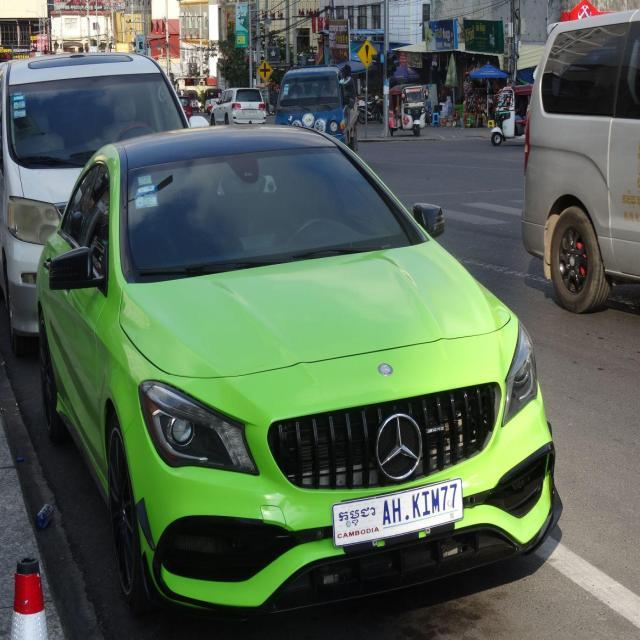Cambodia: (338, 505, 378, 528)
